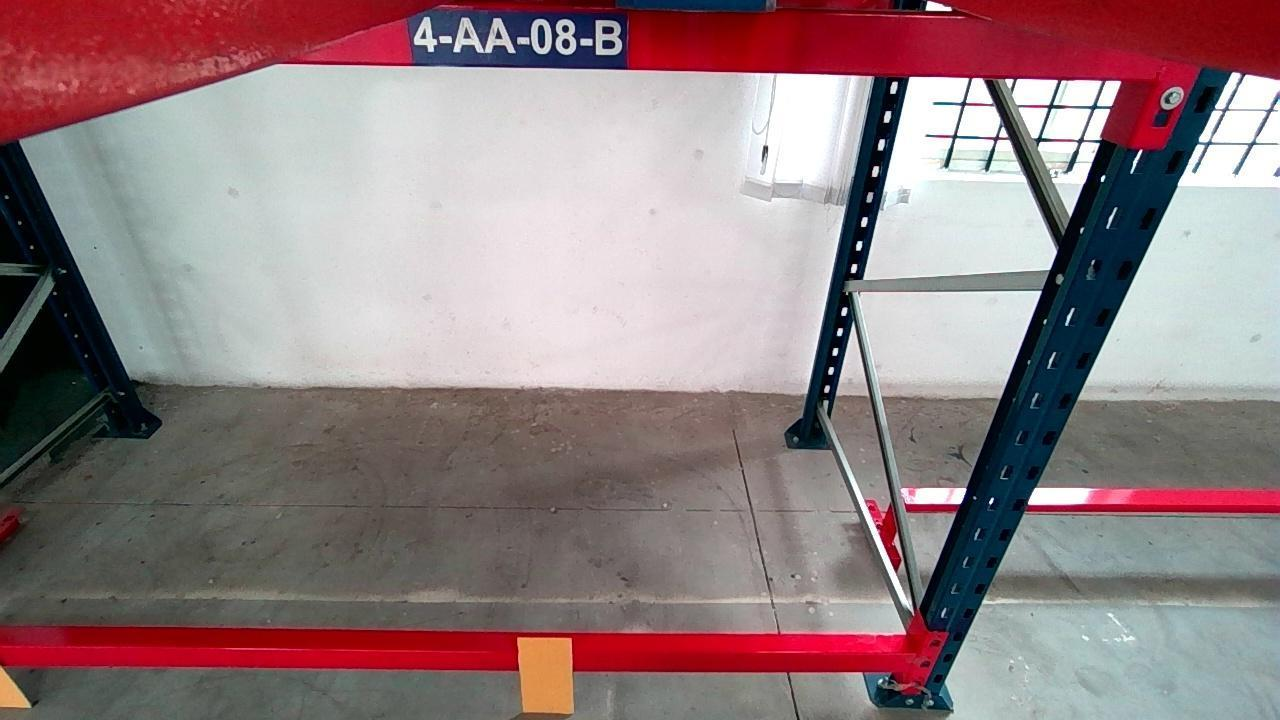h_rack: (291, 5, 1160, 76), (0, 644, 919, 670)
orange_strip: (516, 636, 574, 714)
